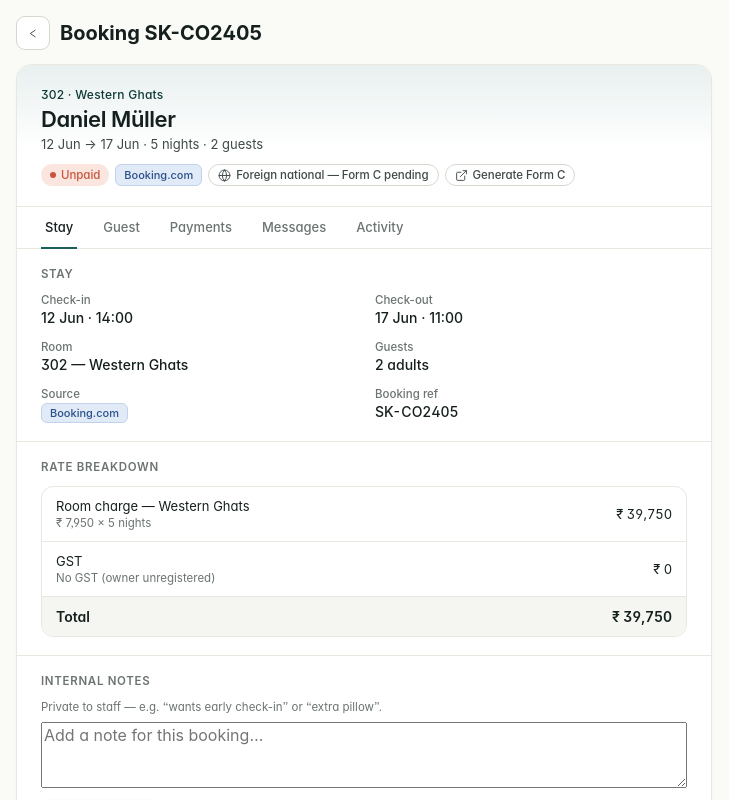
Test: BookingDetailView foreign-national badge › shows the empty-state on the payments timeline when there are no payments
The image size is (729, 800).
What coordinates should you click on to do the following:
click the button "Payments"
I would click on:
 (201, 228)
Its box is [166,207,236,249].
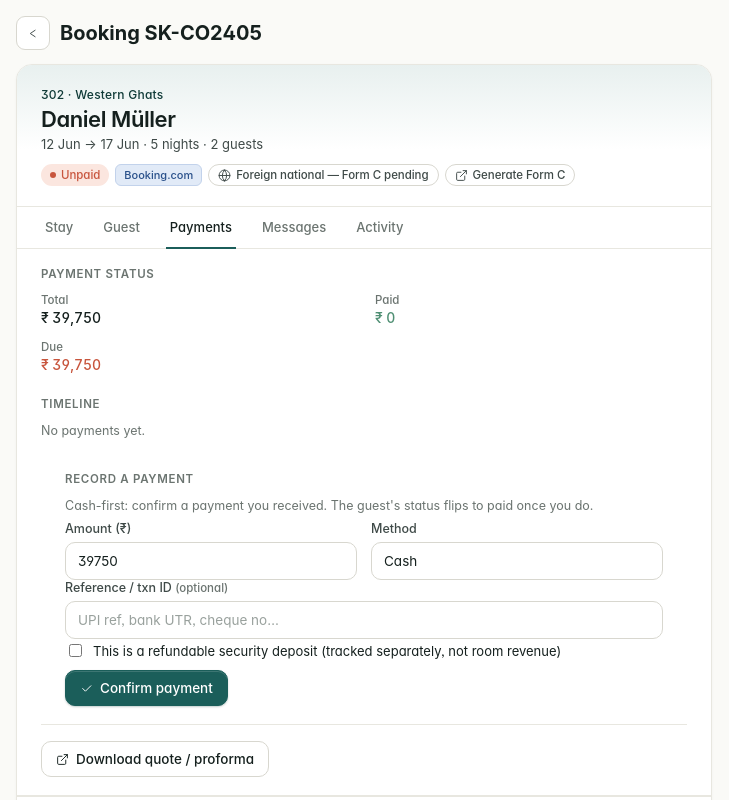
Expected: the text "No payments yet." is shown, [41,423,145,438]
